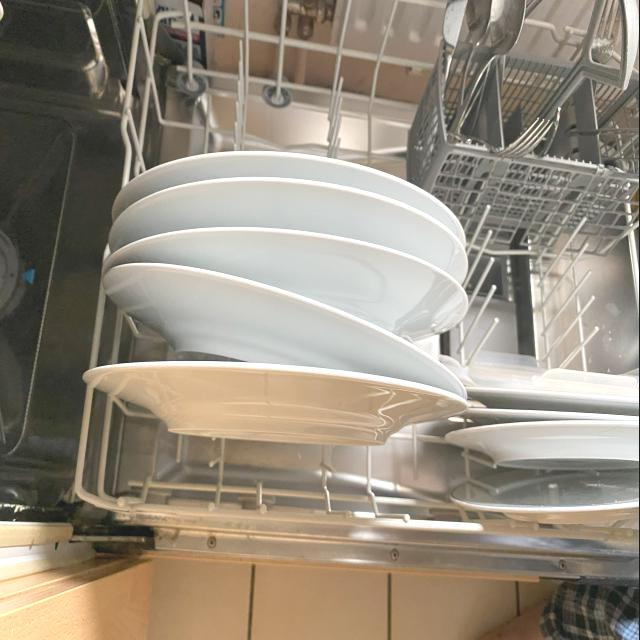clutery_bin: (437, 55, 632, 157)
empty_slot: (154, 20, 419, 151), (123, 439, 419, 518), (465, 219, 613, 372)
